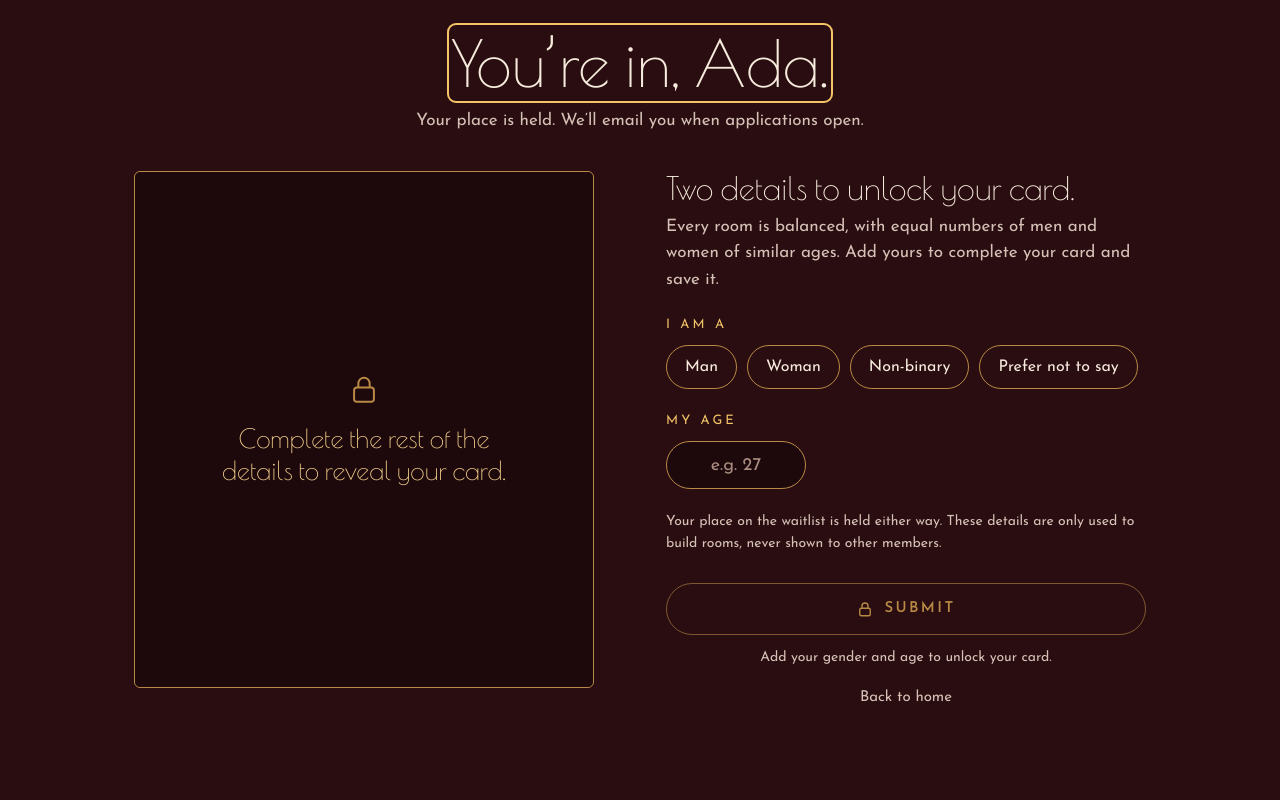
ConfirmationView › reveals the card on a successful submit, and only then offers the save
Click the button "Woman".
click(794, 367)  # box [747,345,840,389]
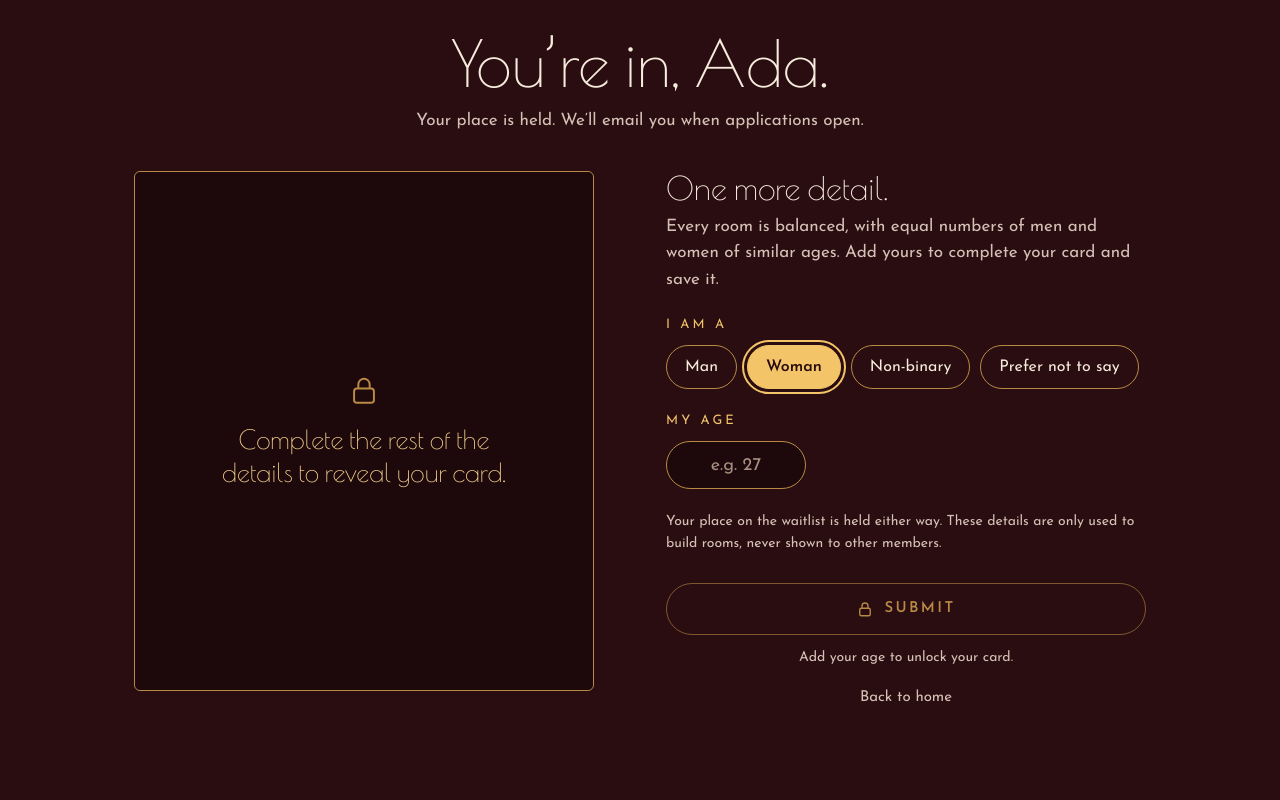
Type "30" into the field labelled "MY AGE".
click(736, 465); type("30")  # box [666,441,806,489]
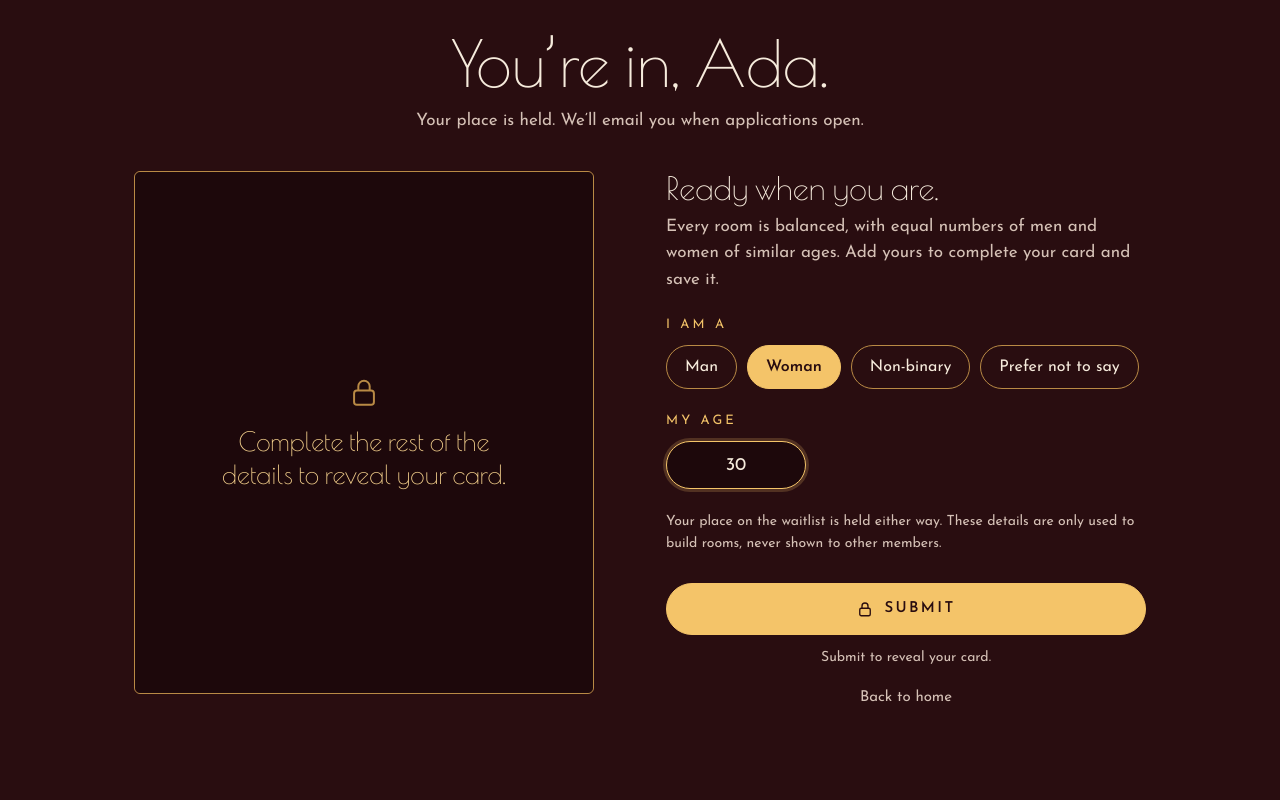
Click the button "Submit".
click(906, 609)  # box [666,583,1146,635]
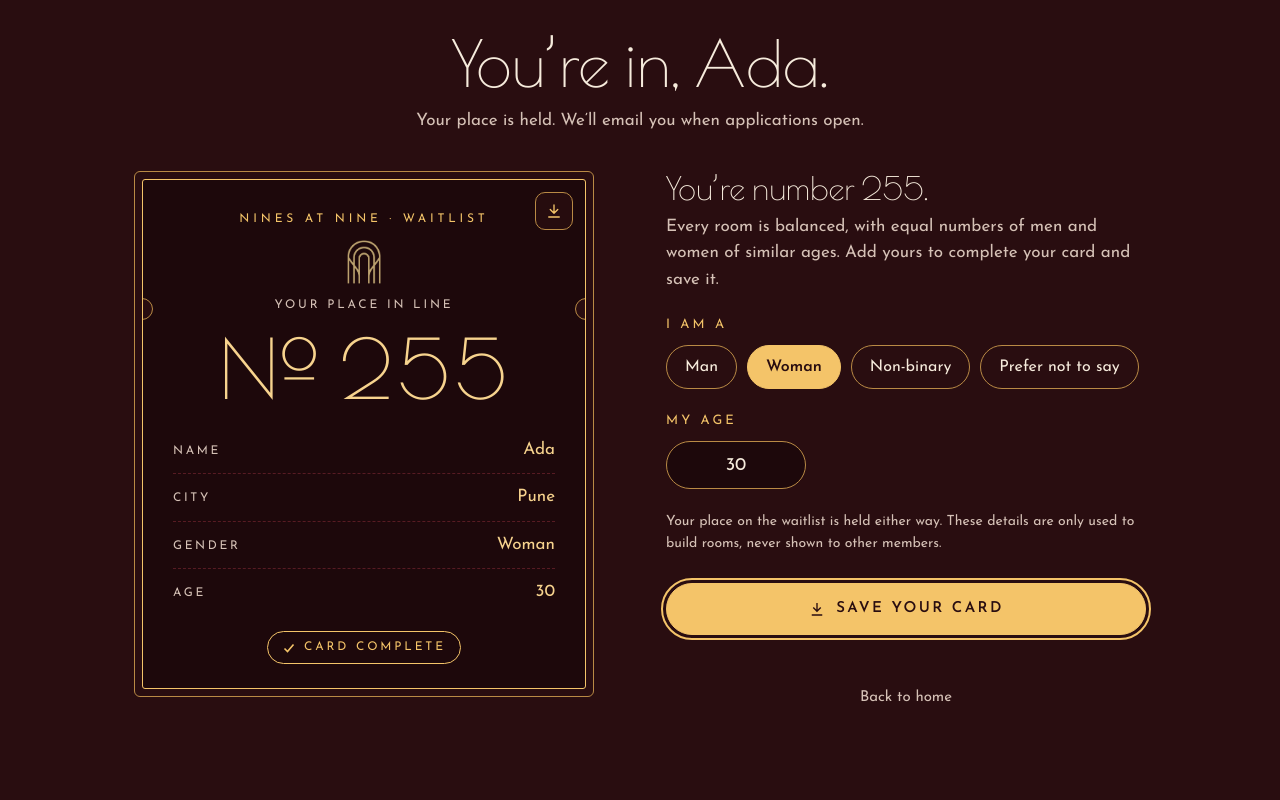
Expected: the text "Complete the rest of the details to reveal your card." is gone
Expected: the text "Nº 255" is shown, [218,327,510,409]
Expected: the text "CARD COMPLETE" is shown, [267,631,461,664]
